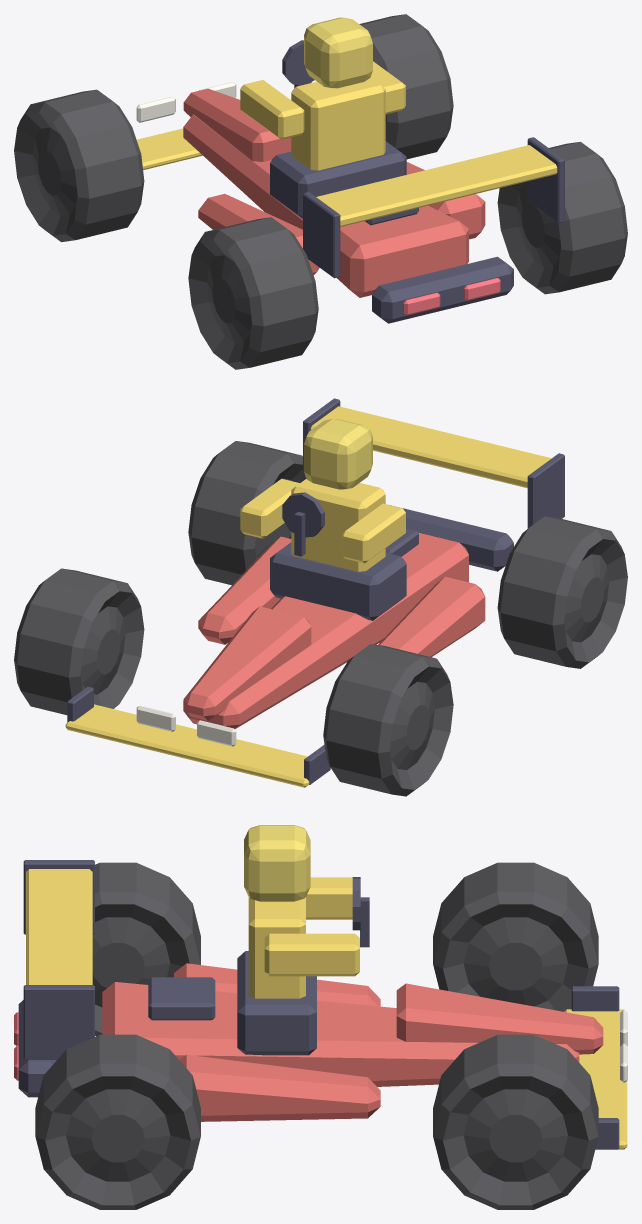
File: Kart_Racer.fbx
3 renders of one model, top to bottom at view 1: azimuth 30°, elevation 25°; view 2: azimuth 150°, elevation 25°; view 3: azimuth 270°, elevation 25°, orthographic. The views are drawn at different scales.
Visible parts, largest first — view 1: Body, WheelRL, WheelFL, Trim, WheelRR, Driver, Accent, WheelFR, Head, Taillights, Headlights; view 2: Body, WheelRL, WheelFL, Trim, WheelFR, Accent, WheelRR, Driver, Head, Headlights, WeaponMount; view 3: Body, WheelFR, WheelRR, WheelFL, Trim, WheelRL, Accent, Driver, Head, WeaponMount, Headlights.
Part boxes in pixels (bbox=[...]): Body: bbox=[183, 88, 485, 297]; WheelRL: bbox=[188, 217, 318, 369]; WheelFL: bbox=[14, 89, 144, 242]; Trim: bbox=[270, 40, 564, 323]; WheelRR: bbox=[497, 141, 627, 294]; Driver: bbox=[240, 61, 405, 170]; Accent: bbox=[136, 128, 557, 226]; WheelFR: bbox=[359, 14, 453, 159]; Head: bbox=[304, 17, 372, 88]; Taillights: bbox=[403, 278, 500, 315]; Headlights: bbox=[136, 82, 236, 122]; Body: bbox=[183, 532, 485, 729]; WheelRL: bbox=[497, 516, 627, 668]; WheelFL: bbox=[323, 644, 453, 796]; Trim: bbox=[67, 398, 564, 784]; WheelFR: bbox=[14, 568, 144, 714]; Accent: bbox=[65, 406, 551, 787]; WheelRR: bbox=[188, 441, 302, 585]; Driver: bbox=[240, 478, 405, 571]; Head: bbox=[304, 419, 372, 489]; Headlights: bbox=[136, 705, 236, 746]; WeaponMount: bbox=[385, 528, 418, 556]; Body: bbox=[102, 963, 603, 1121]; WheelFR: bbox=[433, 1034, 598, 1209]; WheelRR: bbox=[35, 1034, 200, 1209]; WheelFL: bbox=[433, 862, 598, 1011]; Trim: bbox=[18, 860, 619, 1149]; WheelRL: bbox=[92, 862, 200, 1036]; Accent: bbox=[26, 869, 627, 1149]; Driver: bbox=[248, 877, 359, 998]; Head: bbox=[244, 825, 310, 901]; WeaponMount: bbox=[148, 977, 215, 1020]; Headlights: bbox=[620, 1010, 627, 1082].
Bounding box in the file's own units: 311 × 192 × 386.
